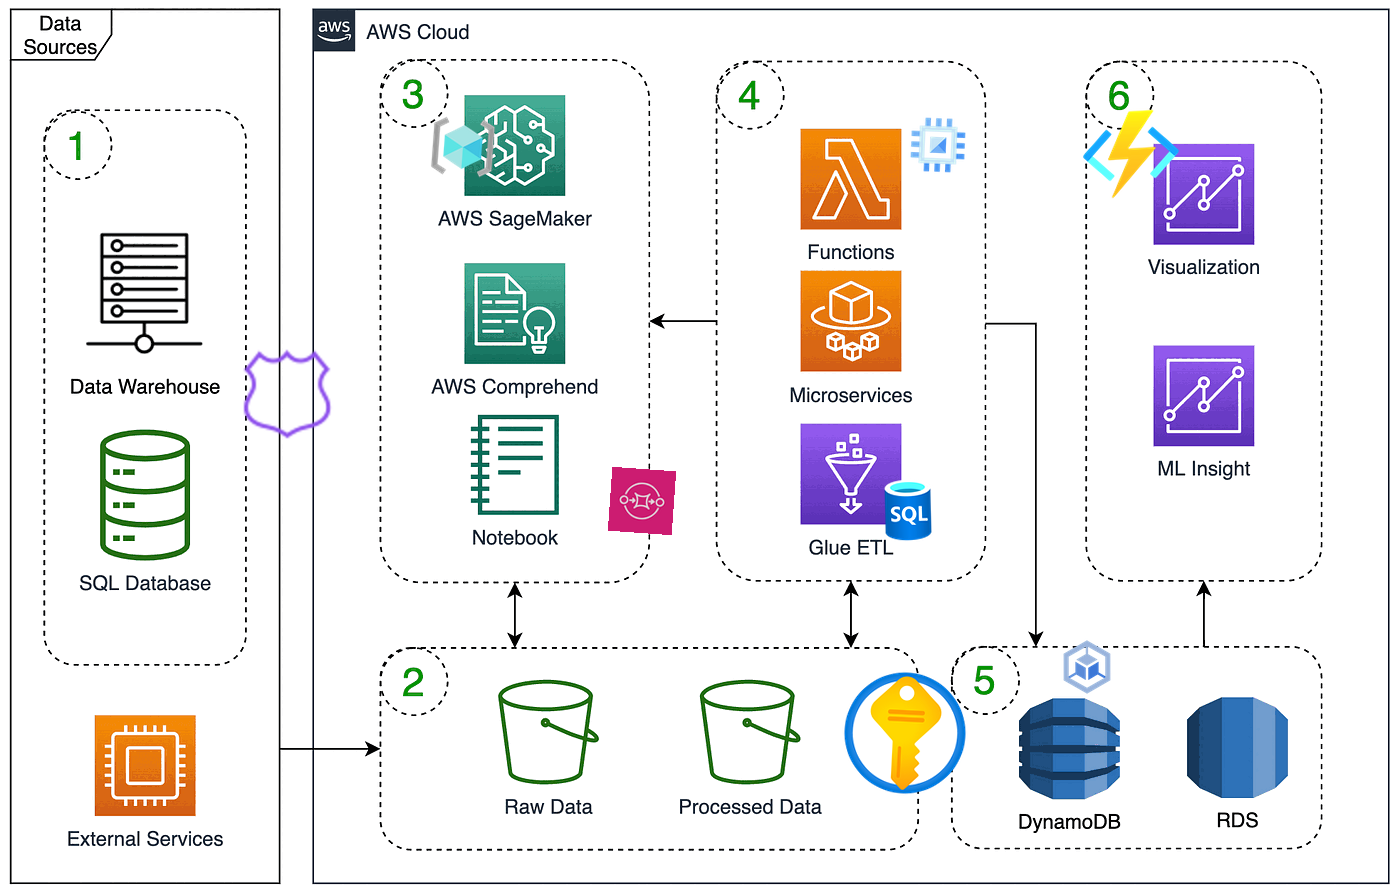aws_amazon_simple_queue_service: (607, 466, 677, 536)
aws_route_53_hosted_zone: (239, 345, 337, 443)
azure_function_apps: (1080, 103, 1182, 205)
azure_key_vaults: (837, 665, 973, 801)
azure_resource_groups: (428, 112, 498, 182)
azure_sql_database: (876, 477, 941, 543)
gcp_compute_engine: (904, 111, 972, 179)
gcp_google_kubernetes_engine: (1054, 634, 1120, 700)
